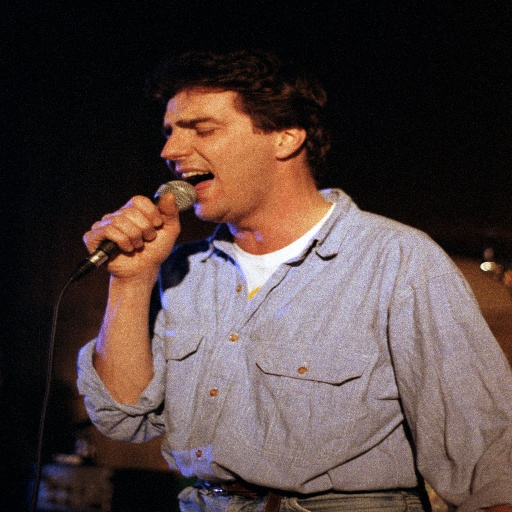hand: (75, 207, 189, 284)
